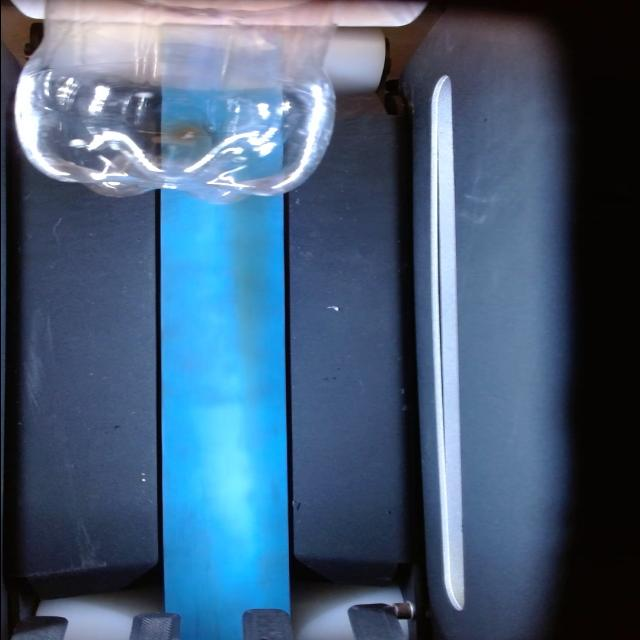bottom: (6, 102, 355, 200)
